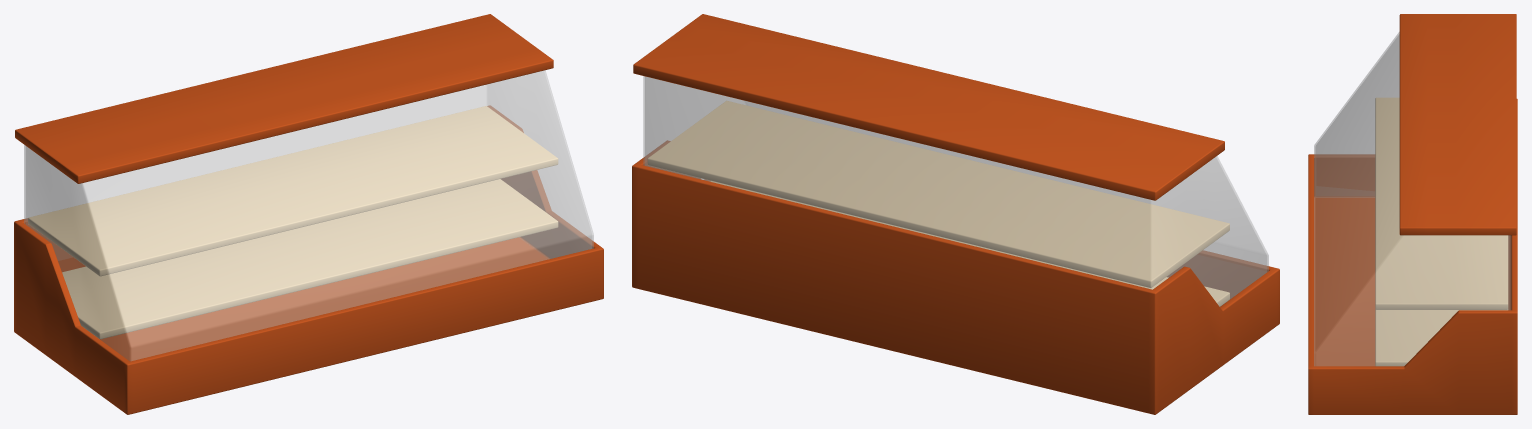
File: meat_case1.glb
3 views of the same model, side by side, from view 1: azimuth 30°, elevation 25°; view 2: azimuth 150°, elevation 25°; view 3: azimuth 270°, elevation 25° (orthographic). The views are drawn at different scales.
Visible parts, largest first — view 1: Cube.002, Cube.004, Cube.001, Cube.003; view 2: Cube.001, Cube.002, Cube.004, Cube.003; view 3: Cube.002, Cube.001, Cube.003, Cube.004.
Part boxes in pixels (x1,y1,x2,y2): Cube.002: [24, 70, 593, 361]; Cube.004: [28, 106, 558, 339]; Cube.001: [14, 105, 603, 414]; Cube.003: [15, 14, 553, 183]; Cube.001: [632, 140, 1279, 414]; Cube.002: [643, 76, 1268, 306]; Cube.004: [647, 101, 1229, 306]; Cube.003: [633, 14, 1224, 200]; Cube.002: [1314, 32, 1511, 365]; Cube.001: [1308, 99, 1517, 414]; Cube.003: [1399, 14, 1516, 235]; Cube.004: [1375, 97, 1508, 366].
Size of the model in its own units: 3.2 by 1.3 by 1.32.
